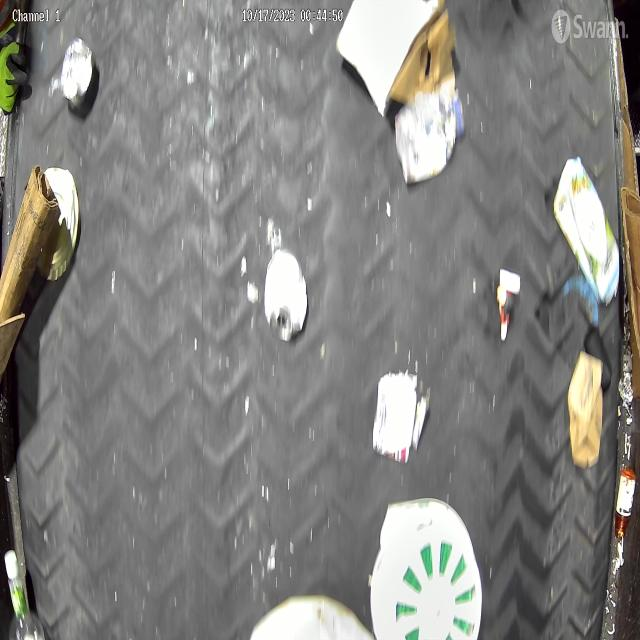can: (371, 370, 426, 464), (40, 167, 80, 280), (263, 248, 308, 344), (62, 40, 94, 107)
milk_jug: (245, 595, 381, 639)
non_white_jug: (554, 157, 619, 305)
